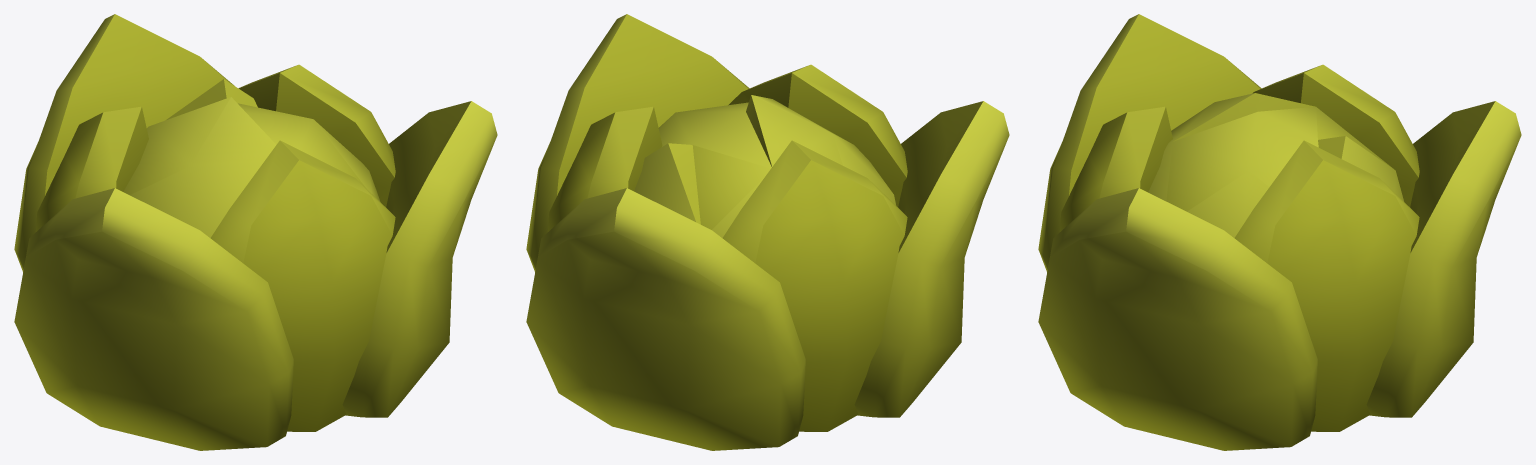
The model's file is food_ingredient_lettuce.obj.
The picture shows the model from 3 angles, left to right: view 1: azimuth 30°, elevation 25°; view 2: azimuth 150°, elevation 25°; view 3: azimuth 270°, elevation 25°; orthographic projection.
Visible parts, largest first — view 1: food_ingredient_lettuce_Icosphere.007; view 2: food_ingredient_lettuce_Icosphere.007; view 3: food_ingredient_lettuce_Icosphere.007.
Part boxes in pixels (<box>): food_ingredient_lettuce_Icosphere.007: <box>14,14,497,450</box>; food_ingredient_lettuce_Icosphere.007: <box>526,14,1009,450</box>; food_ingredient_lettuce_Icosphere.007: <box>1038,14,1521,450</box>.
Size of the model in its own units: 1.1 by 0.8205 by 1.13.
Materials: 1 (1 with a texture image).
